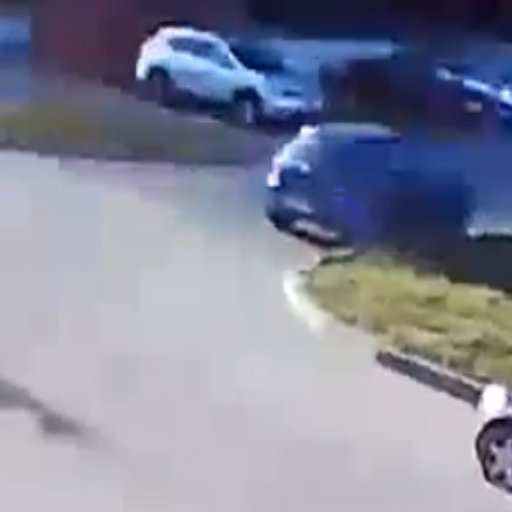Car: (264, 121, 475, 248), (126, 20, 307, 120)
